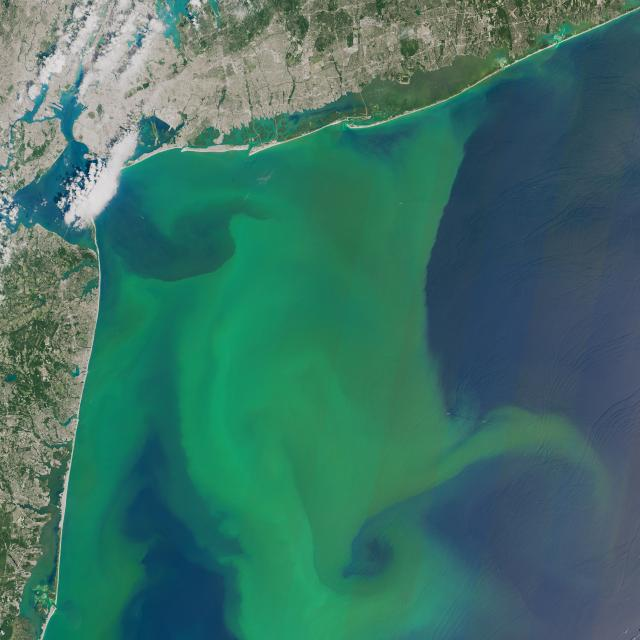algal: (166, 176, 464, 639), (94, 318, 159, 639), (147, 161, 450, 205)
